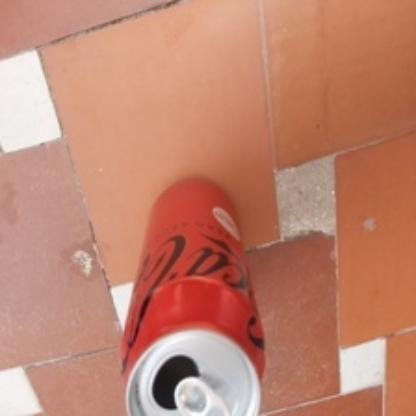Can: (122, 176, 266, 416)
